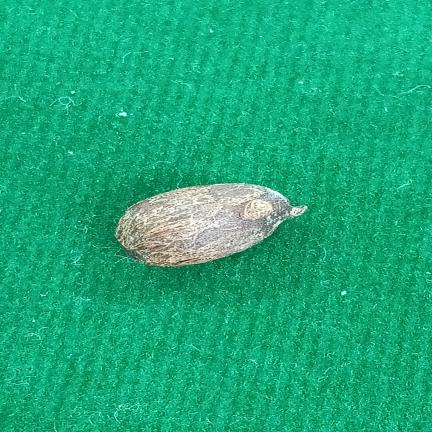husk: (115, 183, 307, 267)
